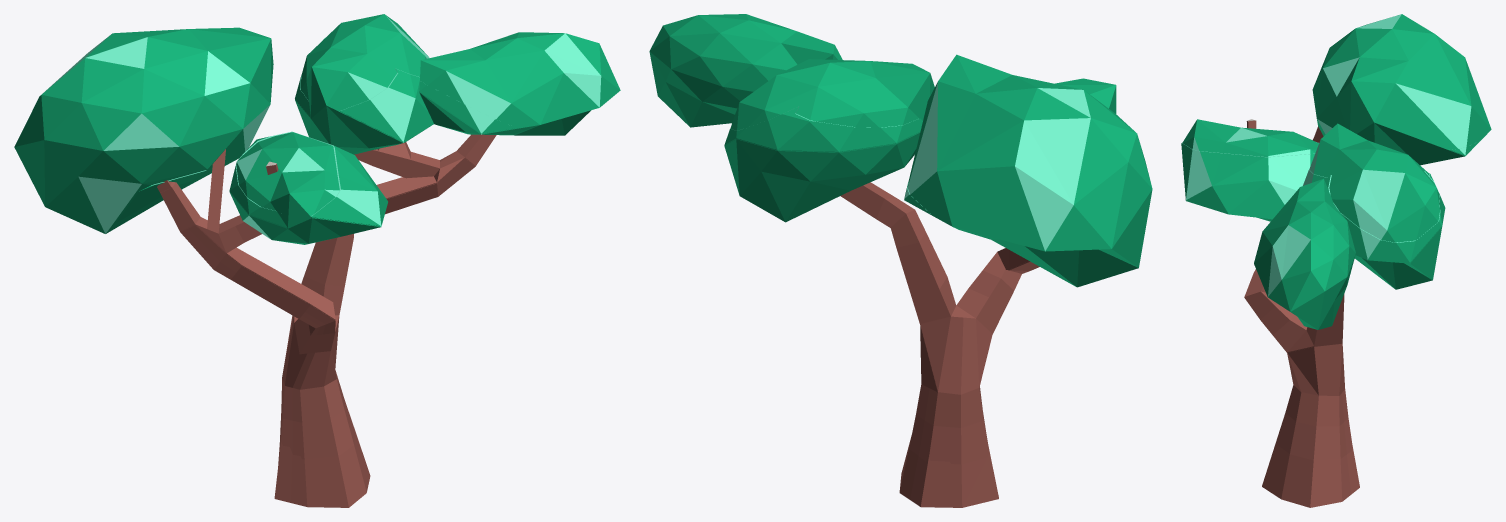
File: AgacSet.fbx
3 views of the same model, side by side, from view 1: azimuth 30°, elevation 25°; view 2: azimuth 150°, elevation 25°; view 3: azimuth 270°, elevation 25° (orthographic). The views are drawn at different scales.
Visible parts, largest first — view 1: Agac1, Agac3, Agac4, Agac2, Agac6; view 2: Agac1, Agac3, Agac4, Agac6, Agac2; view 3: Agac1, Agac3, Agac4.
Part boxes in pixels (<box>): Agac1: <box>14,14,620,507</box>; Agac3: <box>116,37,515,507</box>; Agac4: <box>184,131,387,485</box>; Agac2: <box>307,33,564,135</box>; Agac6: <box>274,442,301,501</box>; Agac1: <box>649,14,1152,507</box>; Agac3: <box>724,106,1116,506</box>; Agac4: <box>911,111,1116,462</box>; Agac6: <box>910,447,998,506</box>; Agac2: <box>690,63,926,147</box>; Agac1: <box>1181,14,1491,507</box>; Agac3: <box>1181,120,1479,507</box>; Agac4: <box>1191,119,1344,497</box>.
Bounding box in the file's own units: 3.64 × 3 × 2.09.
1 material, 1 textured.
